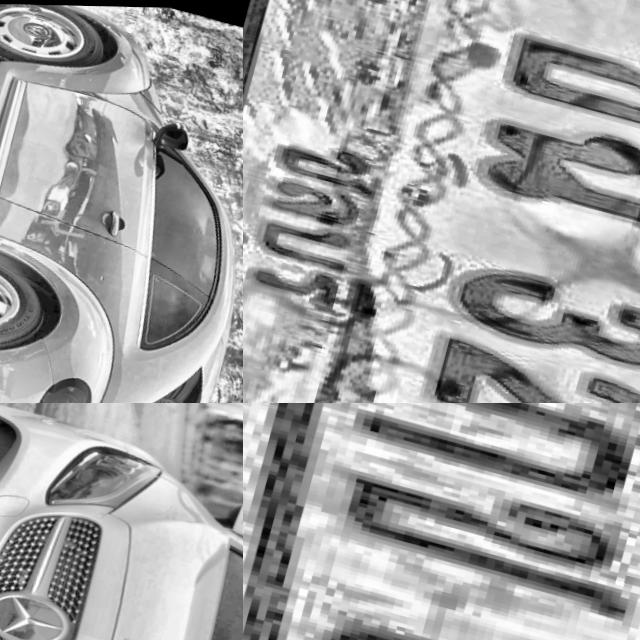license-plate: (243, 0, 640, 403), (243, 403, 640, 640)
